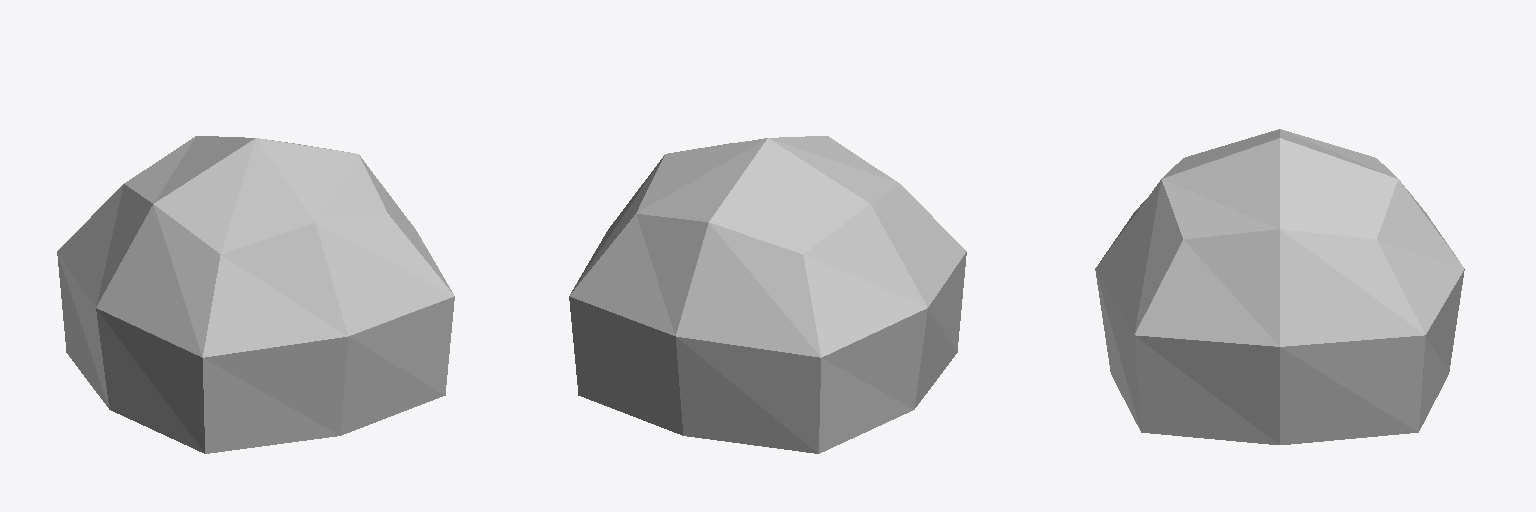
The model's file is bush.obj.
3 views of the same model, side by side, from view 1: azimuth 30°, elevation 25°; view 2: azimuth 150°, elevation 25°; view 3: azimuth 270°, elevation 25° (orthographic).
Visible parts, largest first — view 1: bush_Cube.008; view 2: bush_Cube.008; view 3: bush_Cube.008.
Boxes of the visible parts, box(x1,y1,x2,y2) form: bush_Cube.008: box(57, 136, 454, 453); bush_Cube.008: box(569, 136, 966, 453); bush_Cube.008: box(1095, 129, 1464, 444).
Size of the model in its own units: 0.0464 by 0.0327 by 0.0464.